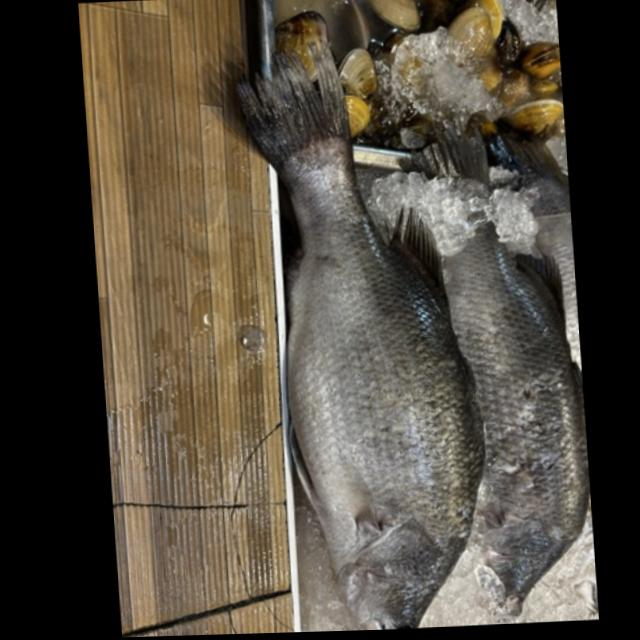Seabass: (225, 25, 495, 633), (389, 119, 597, 622)
